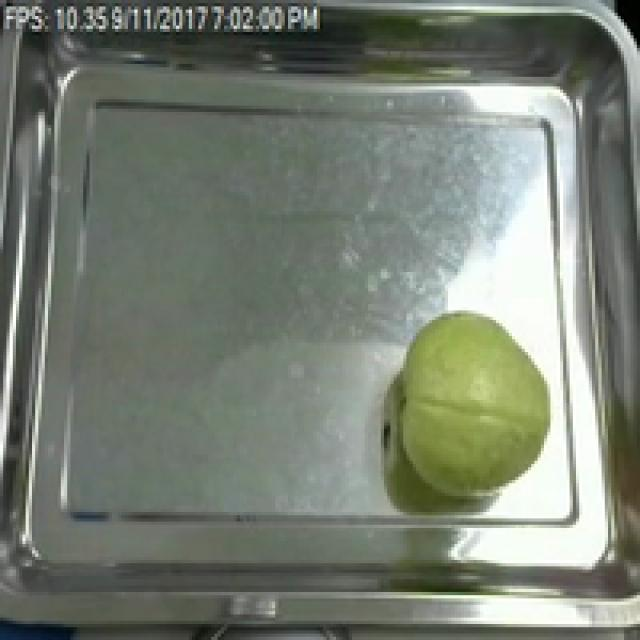Fruit: (384, 304, 566, 509)
